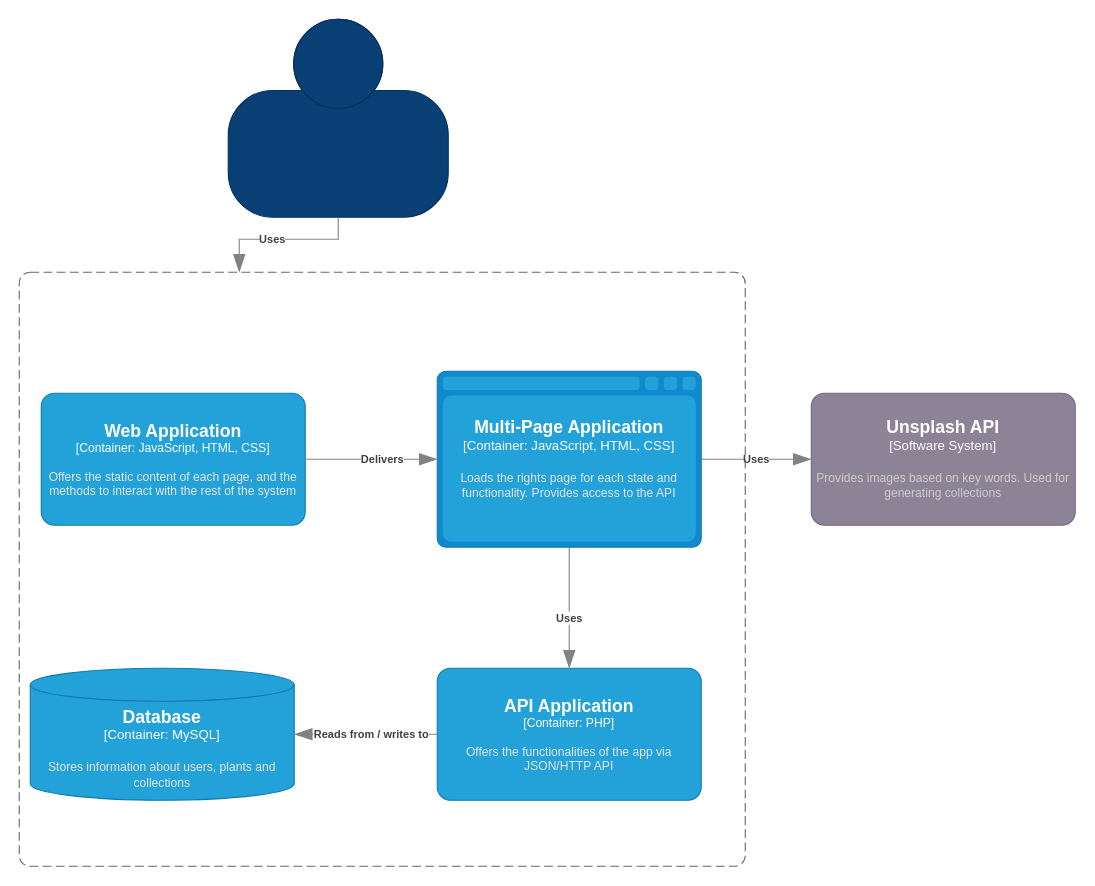
The diagram is 1095 pixels wide and 886 high, and some of its shapes have lost their labels. Each missing label, with the box of its shape:
HeMa [Software System]: (18, 271, 745, 866)
User [Person] Those with an interest in gardening and plant collecting: (227, 18, 448, 217)
